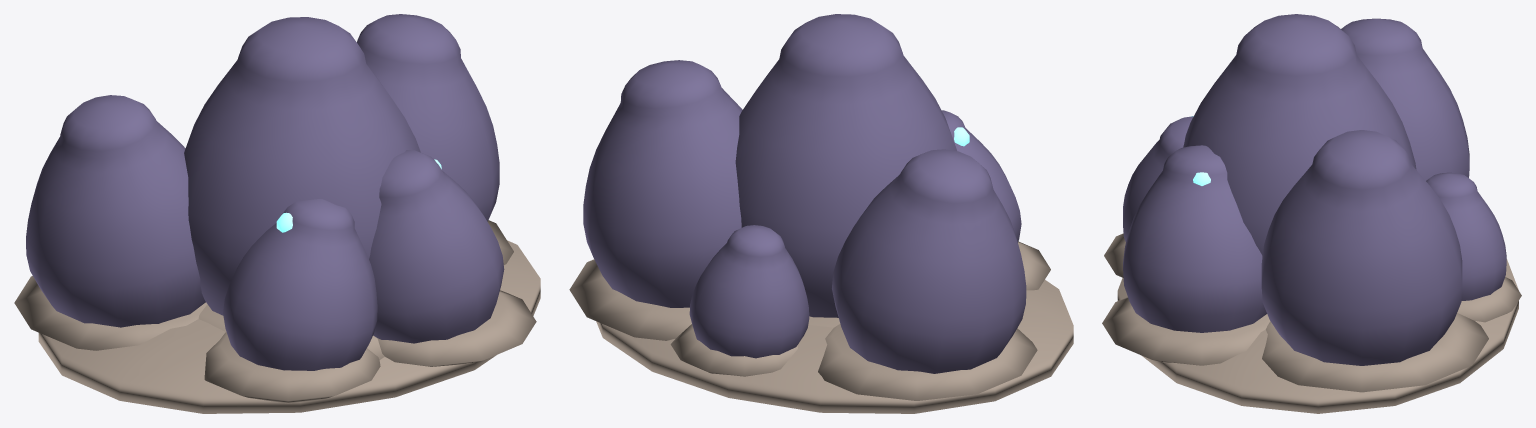
Rendered from xeno-species-and-alien-creatures-xeno-egg-cluster-fdb7a51a__21138.glb.
3 views of the same model, side by side, from view 1: azimuth 30°, elevation 25°; view 2: azimuth 150°, elevation 25°; view 3: azimuth 270°, elevation 25° (orthographic). The views are drawn at different scales.
Parts seen in each view (by area): view 1: xeno-egg-cluster; view 2: xeno-egg-cluster; view 3: xeno-egg-cluster.
Boxes of the visible parts, x1=… form: xeno-egg-cluster: x1=14, y1=14, x2=540, y2=413; xeno-egg-cluster: x1=569, y1=14, x2=1073, y2=413; xeno-egg-cluster: x1=1102, y1=14, x2=1521, y2=413.
Size of the model in its own units: 1.38 by 0.9341 by 1.15.
